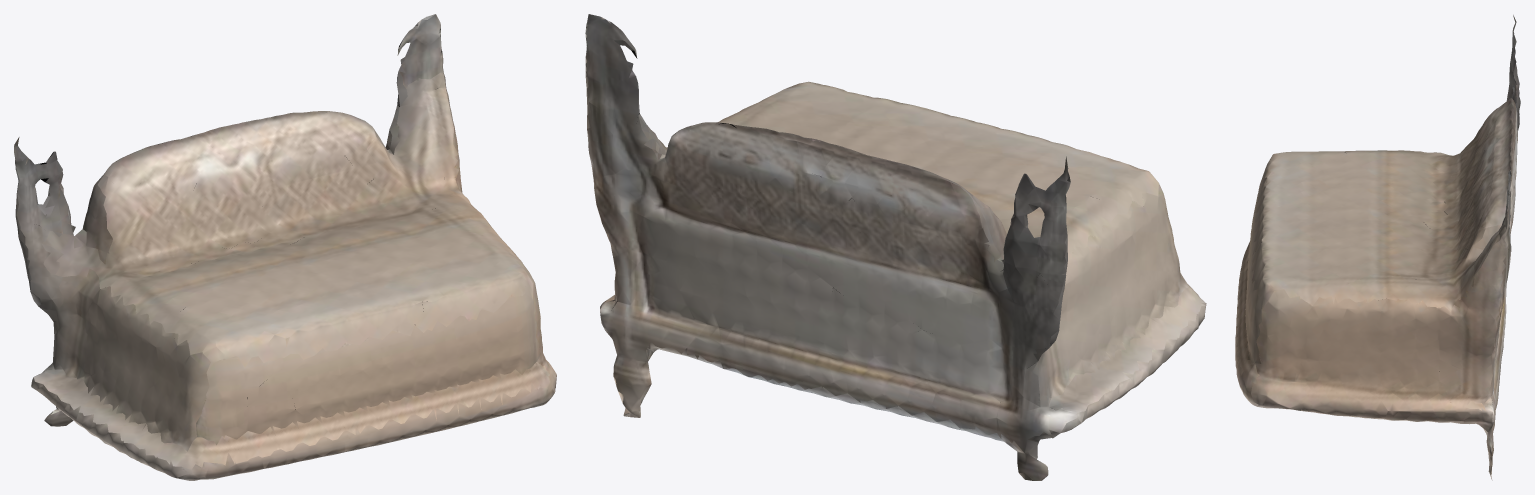
The model's file is 12_44_30_20_a-single-bergre-chair-with-machine-carved-rosettes.glb.
The picture shows the model from 3 angles, left to right: view 1: azimuth 30°, elevation 25°; view 2: azimuth 150°, elevation 25°; view 3: azimuth 270°, elevation 25°; orthographic projection. The views are drawn at different scales.
Visible parts, largest first — view 1: world; view 2: world; view 3: world.
Part boxes in pixels (<box>): world: <box>14,14,556,480</box>; world: <box>585,14,1206,480</box>; world: <box>1235,15,1520,480</box>.
Bounding box in the file's own units: 0.8379 × 0.6591 × 0.5431.
1 material, 1 textured.
